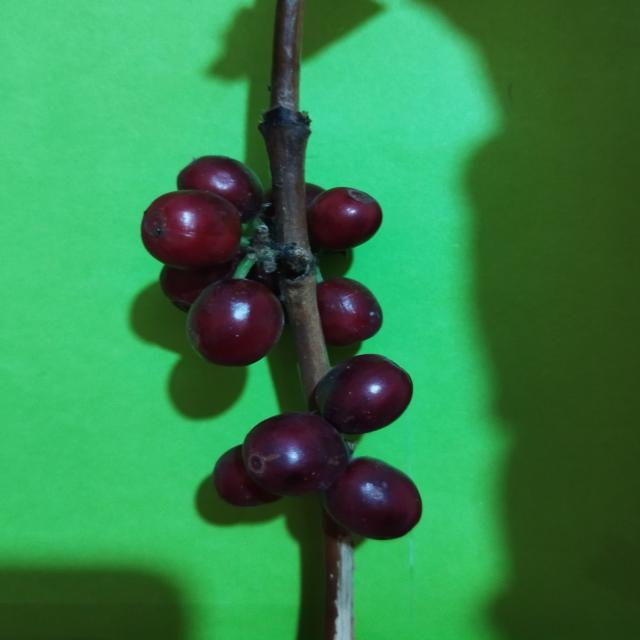Infectado: (141, 190, 242, 275)
Sano: (241, 413, 350, 497), (186, 279, 286, 370), (313, 355, 413, 436), (327, 457, 422, 540), (307, 187, 382, 251), (316, 278, 383, 347)
